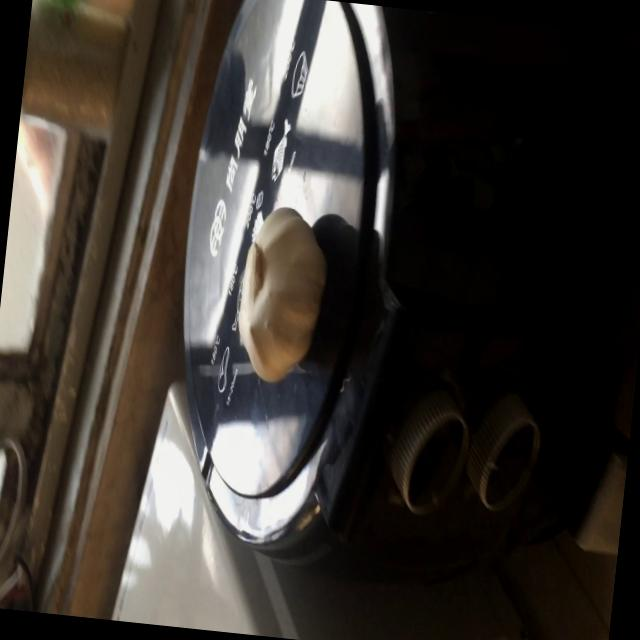bawang: (224, 195, 338, 392)
